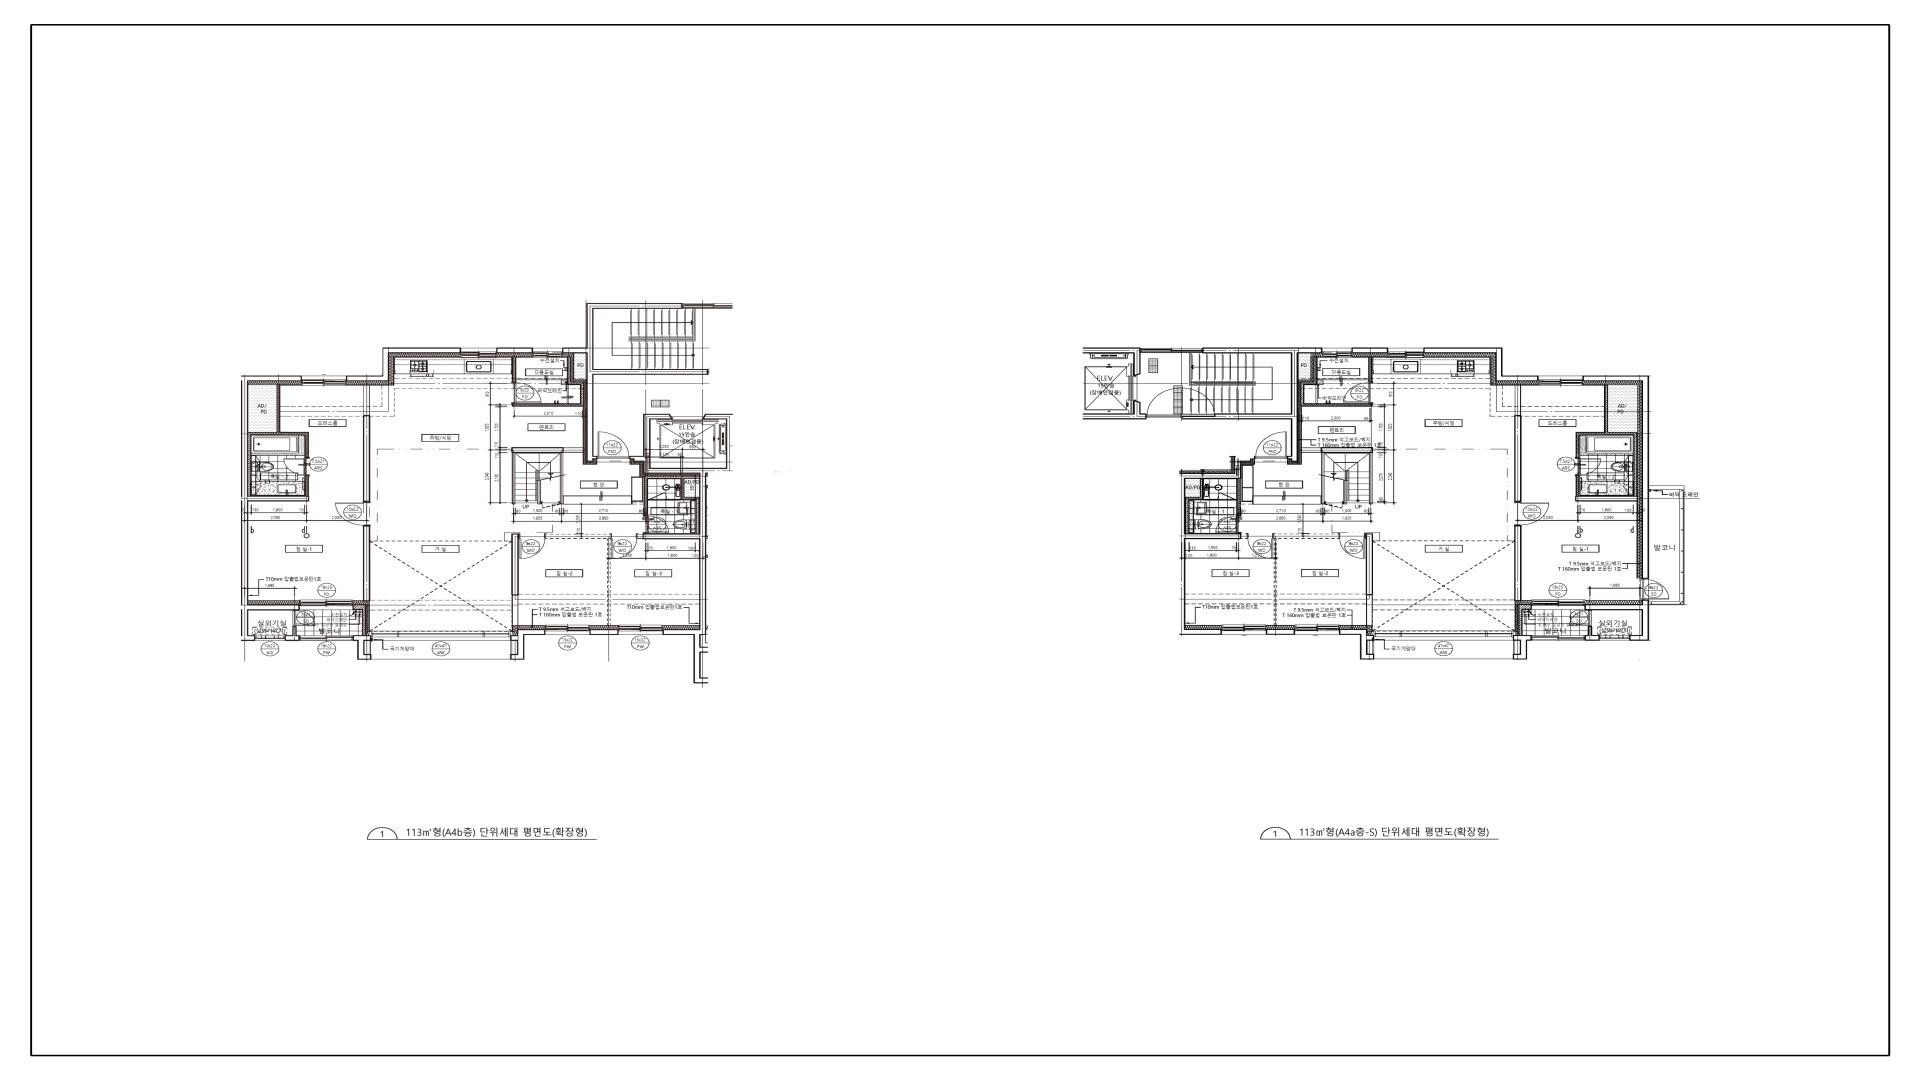door: (1146, 388, 1182, 418), (597, 431, 629, 462), (335, 501, 371, 527), (1255, 431, 1287, 459), (1514, 502, 1549, 526), (1247, 533, 1274, 559), (518, 534, 546, 559), (1338, 534, 1366, 559), (512, 381, 542, 404), (611, 534, 637, 559), (1344, 382, 1373, 404), (1642, 579, 1669, 600), (642, 514, 670, 534), (1215, 514, 1242, 533), (284, 458, 310, 476), (1576, 458, 1602, 476), (1568, 611, 1592, 626), (293, 611, 315, 626), (647, 492, 680, 501), (1217, 492, 1236, 501), (541, 501, 560, 509), (1324, 501, 1344, 509)
wall: (1582, 376, 1684, 641), (562, 303, 708, 462), (629, 414, 733, 636), (241, 376, 309, 641), (1182, 347, 1321, 462), (1182, 456, 1255, 636), (1576, 385, 1638, 501), (248, 385, 309, 496), (1274, 534, 1338, 626), (546, 534, 611, 625), (1300, 447, 1373, 505), (512, 447, 583, 504), (347, 348, 462, 381), (1424, 348, 1539, 381), (512, 357, 584, 407), (1300, 356, 1373, 406), (644, 476, 699, 534), (1185, 479, 1218, 534), (1083, 348, 1141, 377), (1083, 400, 1146, 419), (510, 629, 546, 661), (1340, 629, 1374, 659), (1514, 385, 1522, 502), (363, 385, 371, 501), (512, 534, 518, 626), (1366, 534, 1373, 626), (1514, 526, 1522, 601), (363, 527, 371, 601), (1513, 636, 1532, 659), (353, 636, 372, 659), (353, 604, 367, 636), (1519, 604, 1531, 636), (285, 626, 299, 641), (1585, 626, 1600, 641), (1236, 479, 1241, 516), (1352, 348, 1389, 353), (589, 629, 618, 636), (1266, 629, 1295, 636), (497, 348, 533, 353), (512, 356, 517, 381), (1369, 356, 1373, 382), (305, 476, 309, 496), (1344, 480, 1346, 505), (538, 480, 541, 504), (1241, 534, 1247, 539), (637, 534, 642, 539)
window: (1374, 630, 1514, 641), (372, 632, 510, 641), (1531, 600, 1585, 611), (299, 600, 353, 611), (1221, 625, 1267, 636), (618, 625, 663, 636), (1295, 625, 1340, 636), (1539, 376, 1582, 386), (301, 376, 345, 385), (1141, 347, 1203, 353), (546, 625, 589, 634), (1389, 348, 1424, 359), (462, 348, 496, 357), (1321, 348, 1352, 357), (299, 636, 352, 641), (1532, 636, 1585, 641), (533, 348, 562, 357), (683, 303, 733, 309), (1600, 636, 1630, 641), (256, 636, 285, 641)
